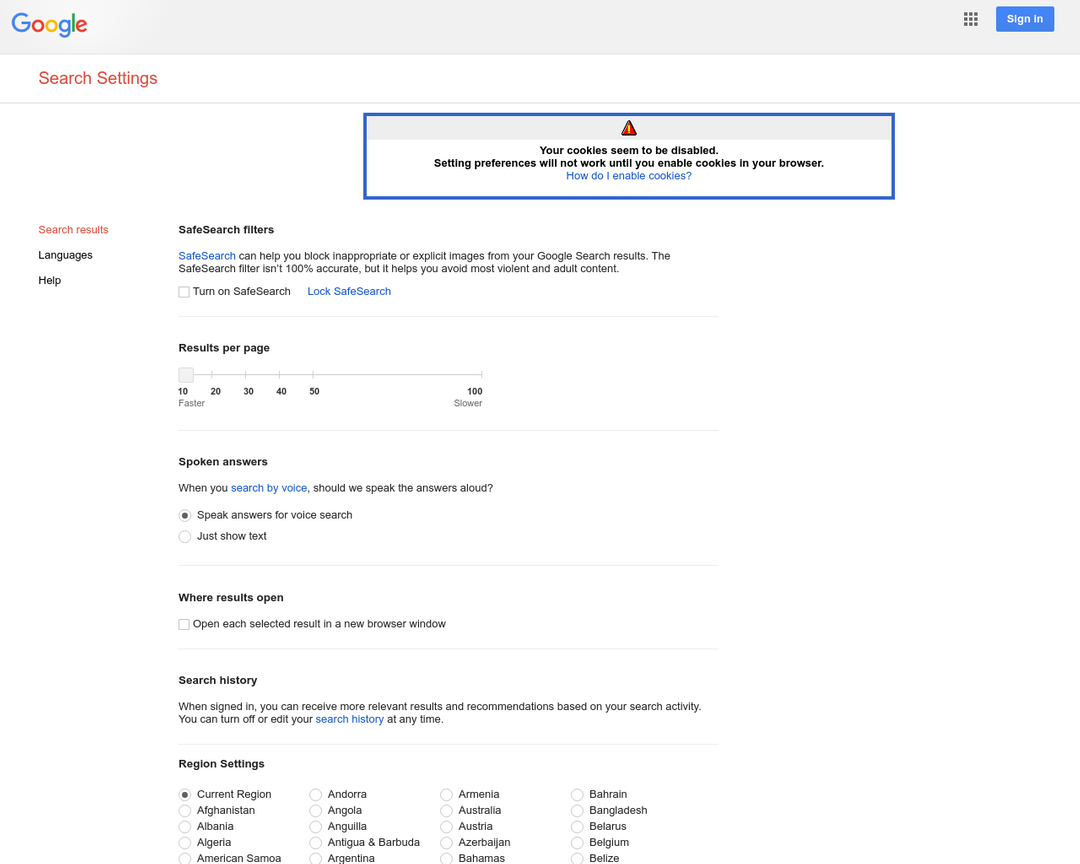Google: (6, 10, 89, 42)
